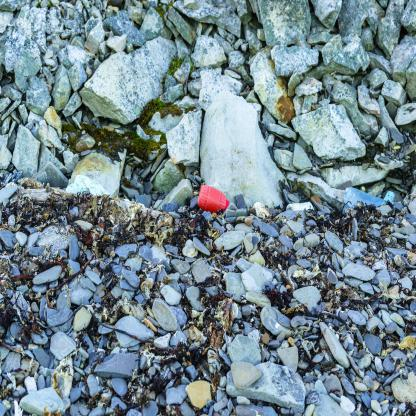plastik: (199, 186, 231, 214)
